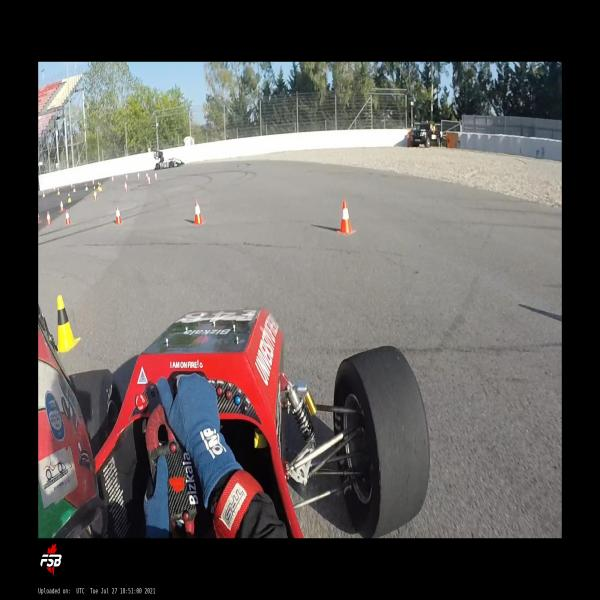orange_cone: (337, 200, 355, 235), (193, 199, 204, 225), (114, 206, 122, 225), (65, 210, 71, 225), (46, 211, 52, 225), (59, 200, 65, 212), (94, 190, 98, 200), (124, 181, 128, 191), (147, 175, 151, 185), (154, 172, 158, 180), (38, 213, 41, 223), (137, 172, 140, 179), (146, 172, 148, 179), (126, 174, 128, 180)
yellow_cone: (57, 295, 82, 353), (68, 192, 72, 202), (99, 182, 102, 192), (57, 188, 60, 195), (73, 185, 76, 192), (85, 183, 88, 190), (43, 191, 45, 197)
